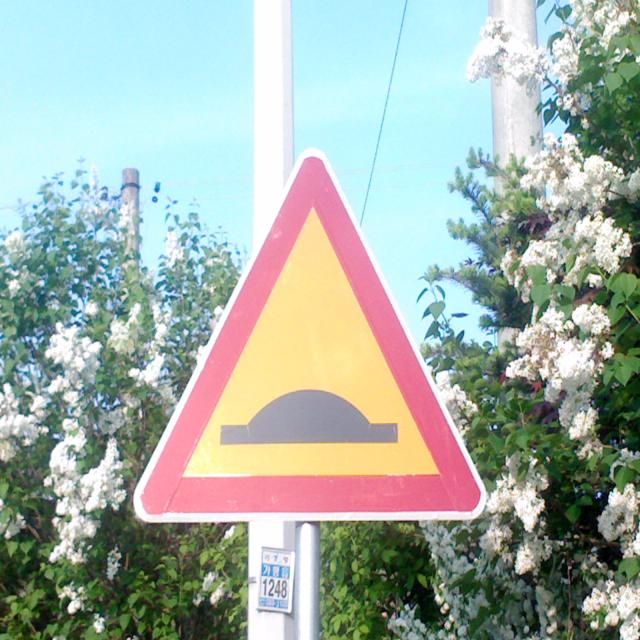Speed_bump_ahead: (117, 132, 496, 535)
